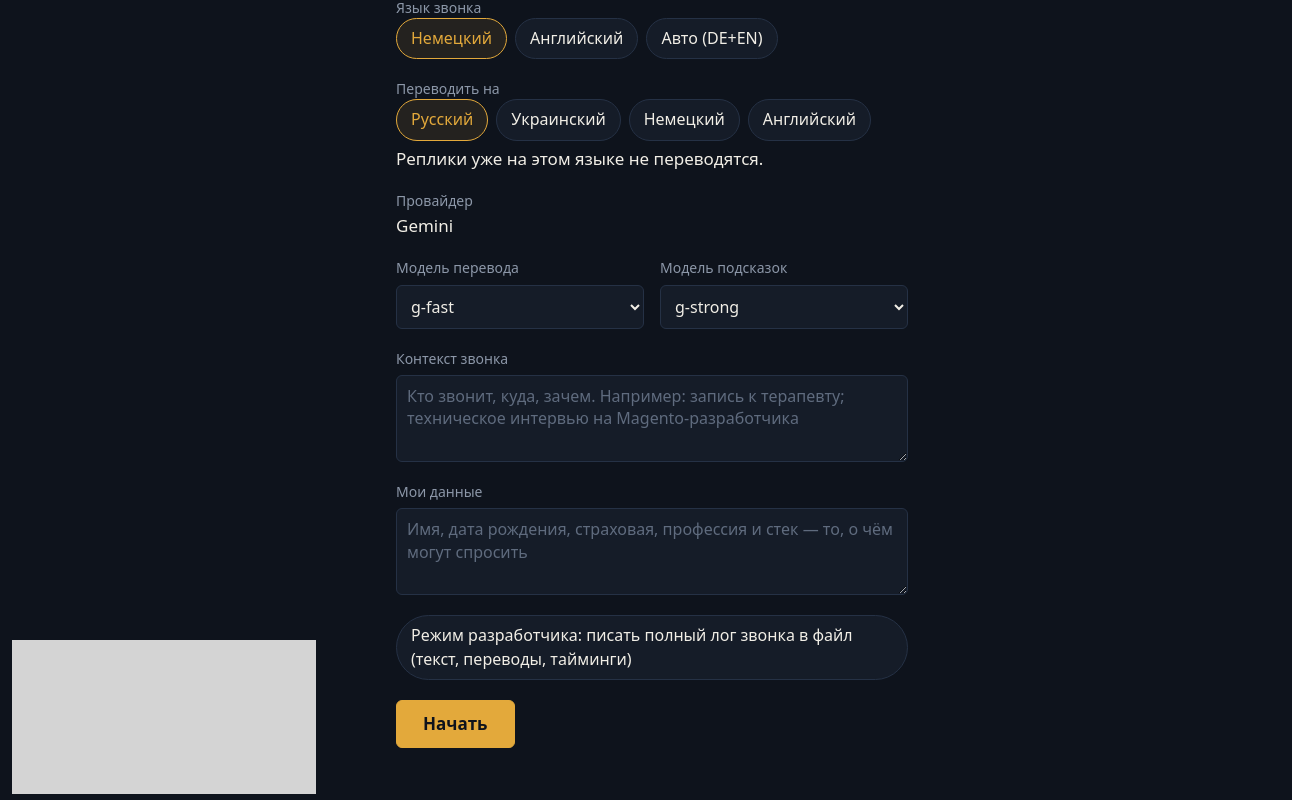
the floating window › offers the button only when the browser supports it
(page scrolled)
Click the button "Начать".
click(455, 724)  # box x1=396 y1=700 x2=514 y2=748
(page scrolled)
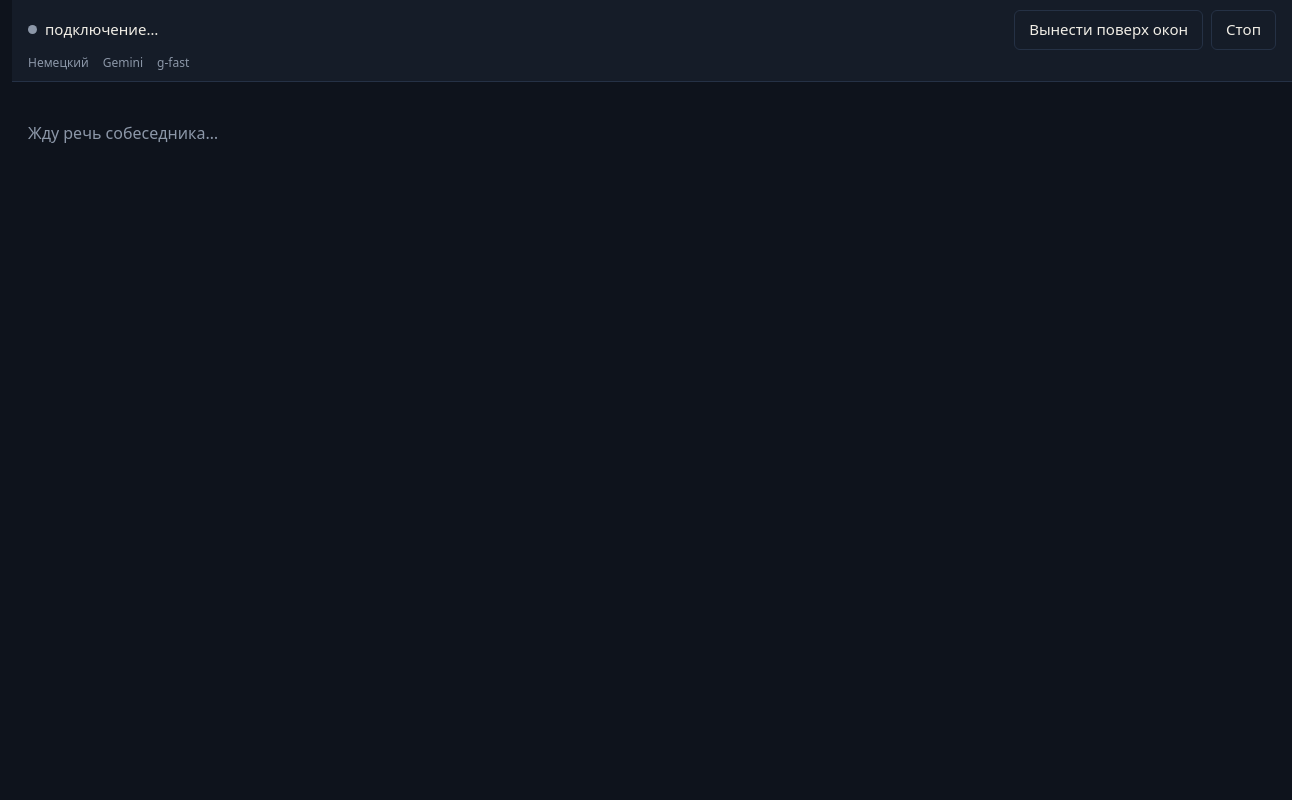
Expected: the button "Стоп" is shown, x1=1211 y1=10 x2=1276 y2=50
Expected: the button "Вынести поверх окон" is shown, x1=1014 y1=10 x2=1203 y2=50
